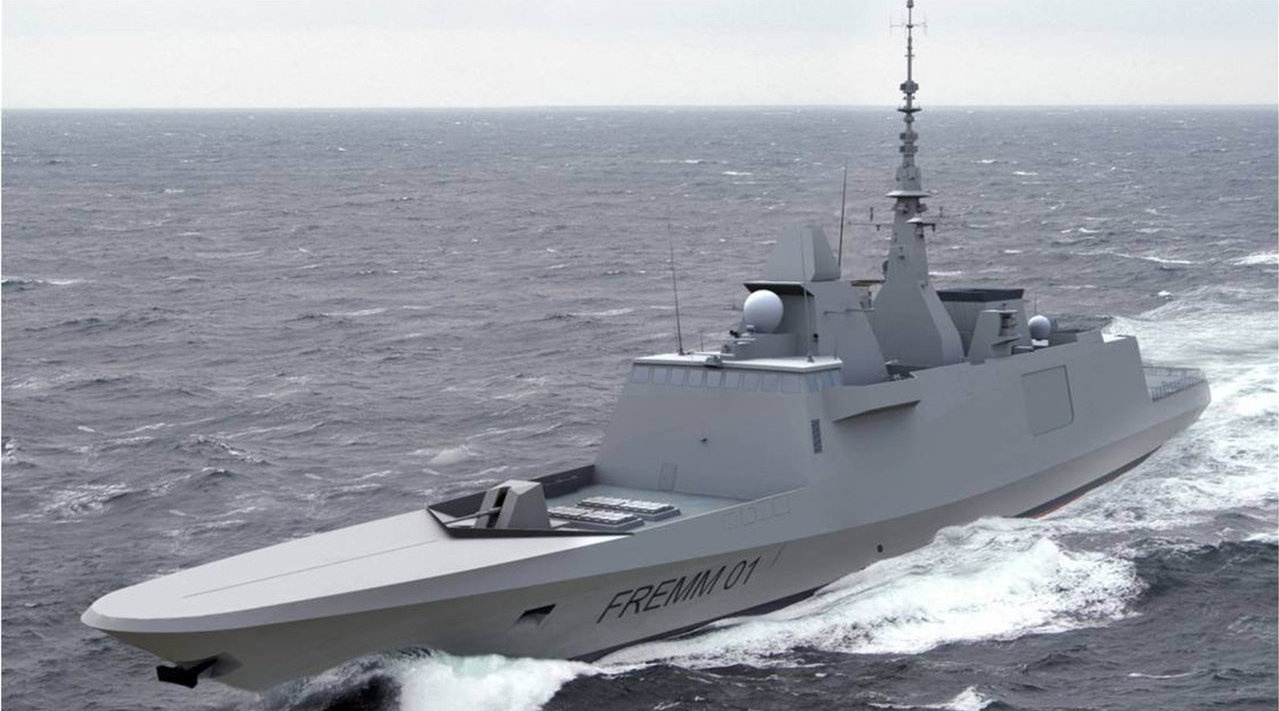warship: (81, 1, 1216, 684)
